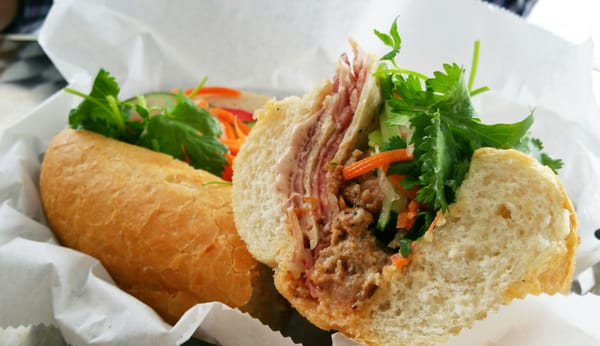soup: (231, 16, 581, 341), (39, 126, 264, 325)
